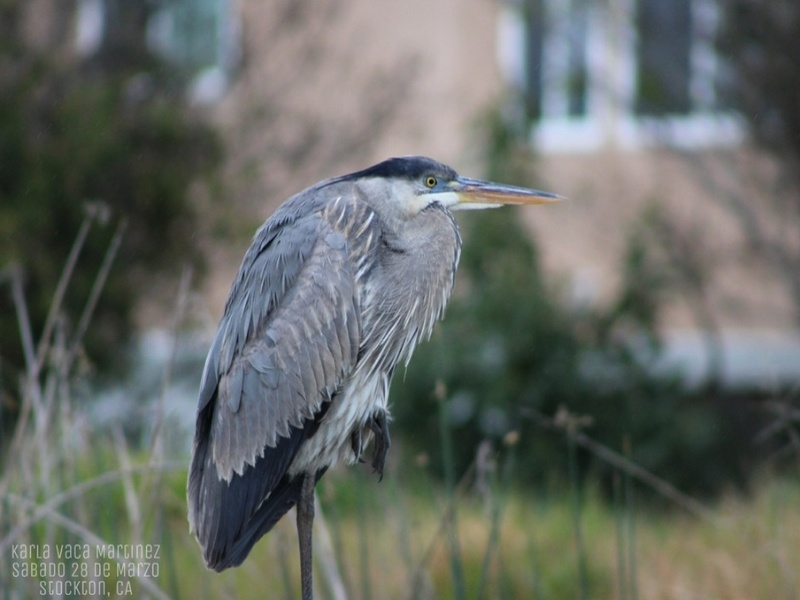heron: (185, 150, 564, 600)
